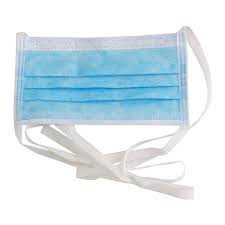mask: (10, 32, 187, 131)
